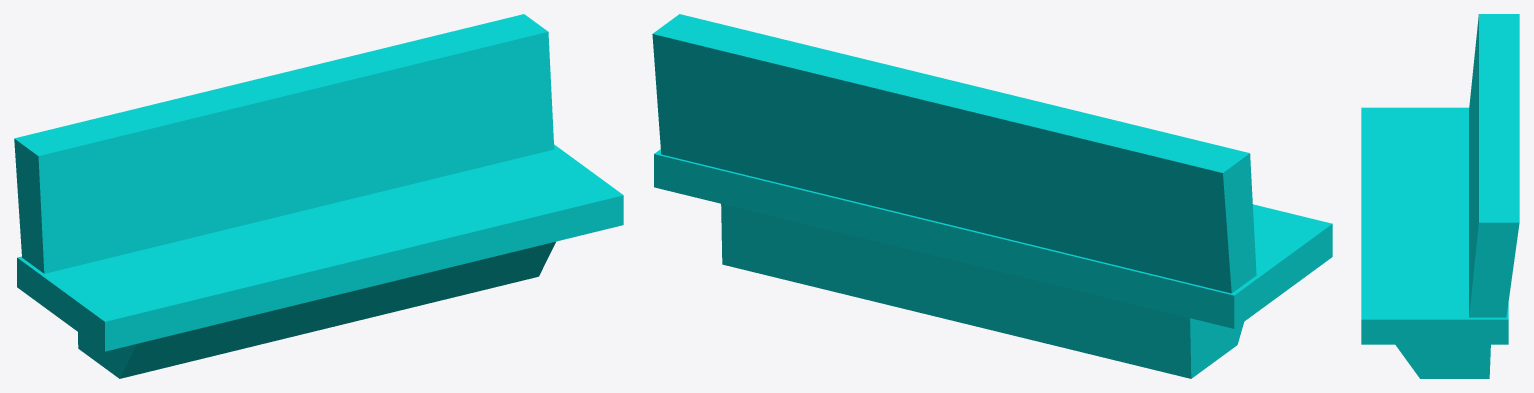
The model's file is SM_Prop_Bench_Seat_02_Collision.fbx.
3 views of the same model, side by side, from view 1: azimuth 30°, elevation 25°; view 2: azimuth 150°, elevation 25°; view 3: azimuth 270°, elevation 25° (orthographic). The views are drawn at different scales.
Parts seen in each view (by area): view 1: SM_Prop_Bench_Seat_02_Collision; view 2: SM_Prop_Bench_Seat_02_Collision; view 3: SM_Prop_Bench_Seat_02_Collision.
Part boxes in pixels (x1,y1,x2,y2): SM_Prop_Bench_Seat_02_Collision: (14, 14, 623, 378); SM_Prop_Bench_Seat_02_Collision: (652, 14, 1332, 378); SM_Prop_Bench_Seat_02_Collision: (1361, 14, 1519, 378).
Bounding box in the file's own units: 236 × 90.74 × 74.5.
